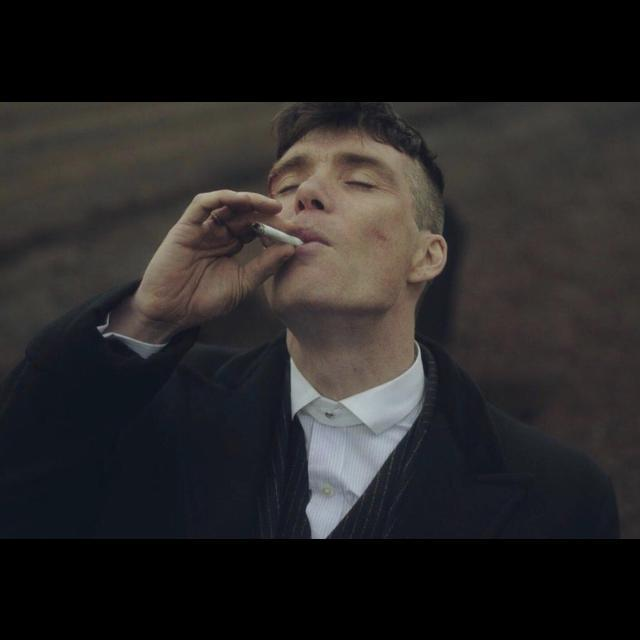rokok: (251, 213, 319, 253)
